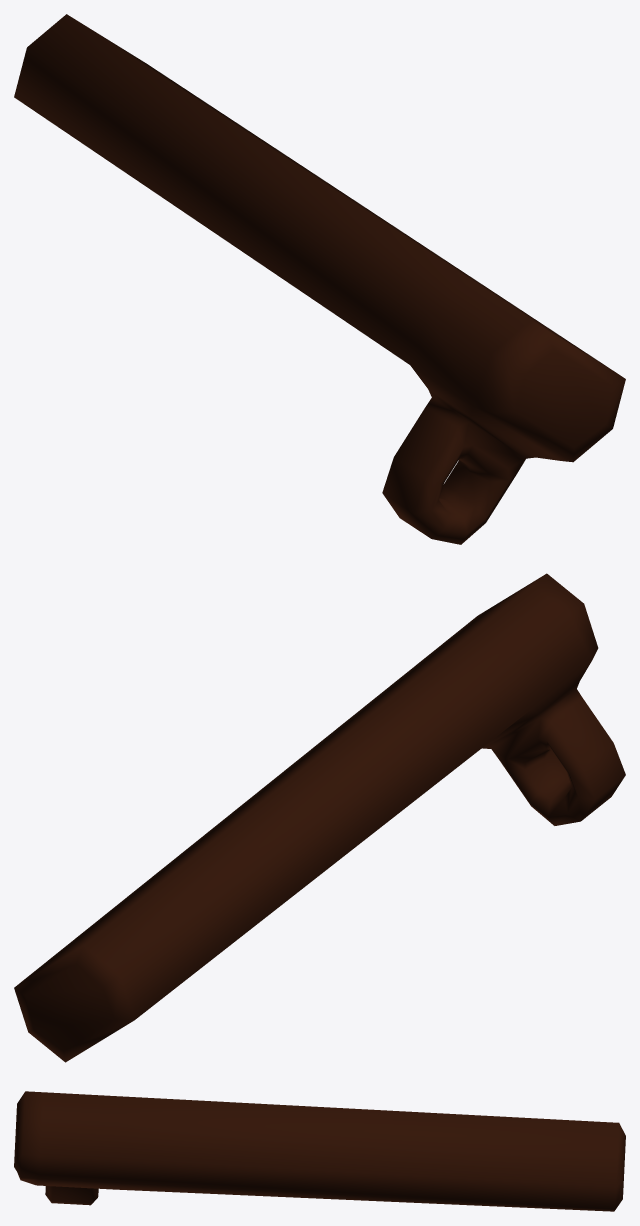
File: RealBarrier.fbx
3 views of the same model, one above another, from view 1: azimuth 30°, elevation 25°; view 2: azimuth 150°, elevation 25°; view 3: azimuth 270°, elevation 25° (orthographic). The views are drawn at different scales.
Parts seen in each view (by area): view 1: Box001; view 2: Box001; view 3: Box001.
Part boxes in pixels (box(x1,y1,x2,y2)): Box001: box(14, 14, 625, 544); Box001: box(14, 573, 625, 1062); Box001: box(14, 1091, 625, 1211).
Size of the model in its own units: 10.94 by 11.57 by 48.47.
